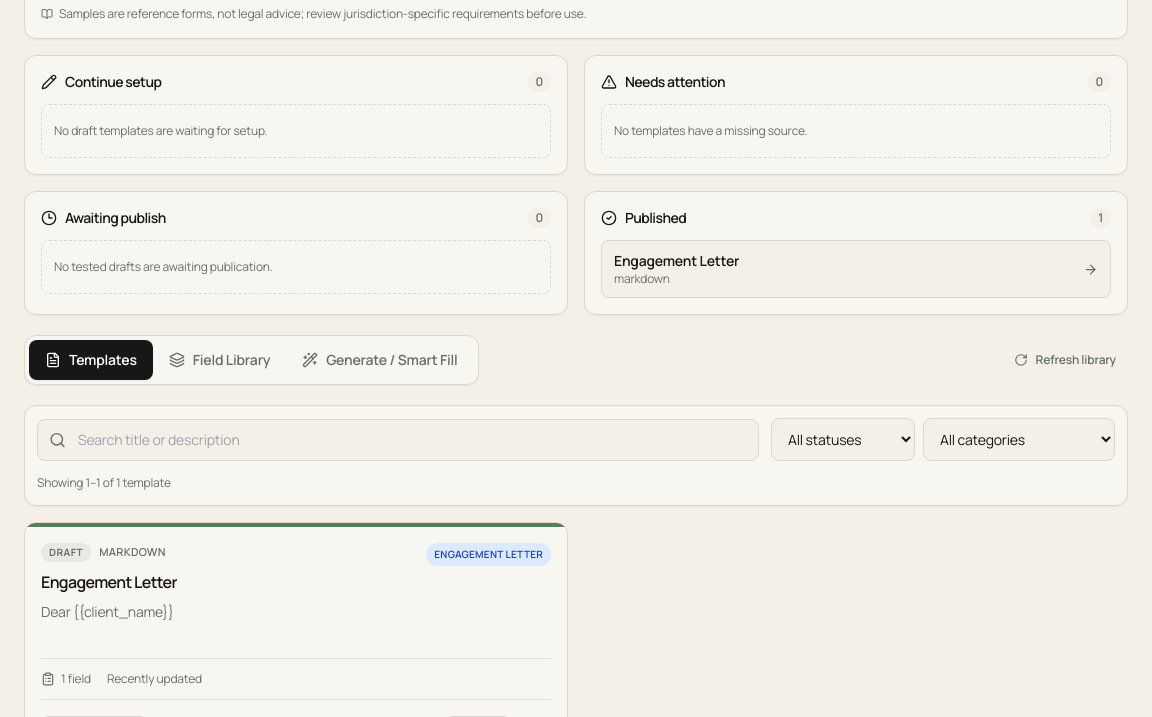
Test case: document template workflow › shows only working document automation tabs
(page scrolled)
Check: the tab "Templates" is shown, box [29,340,153,380]
Click the tab "Field Library" at (219, 360), box [153,340,286,380]
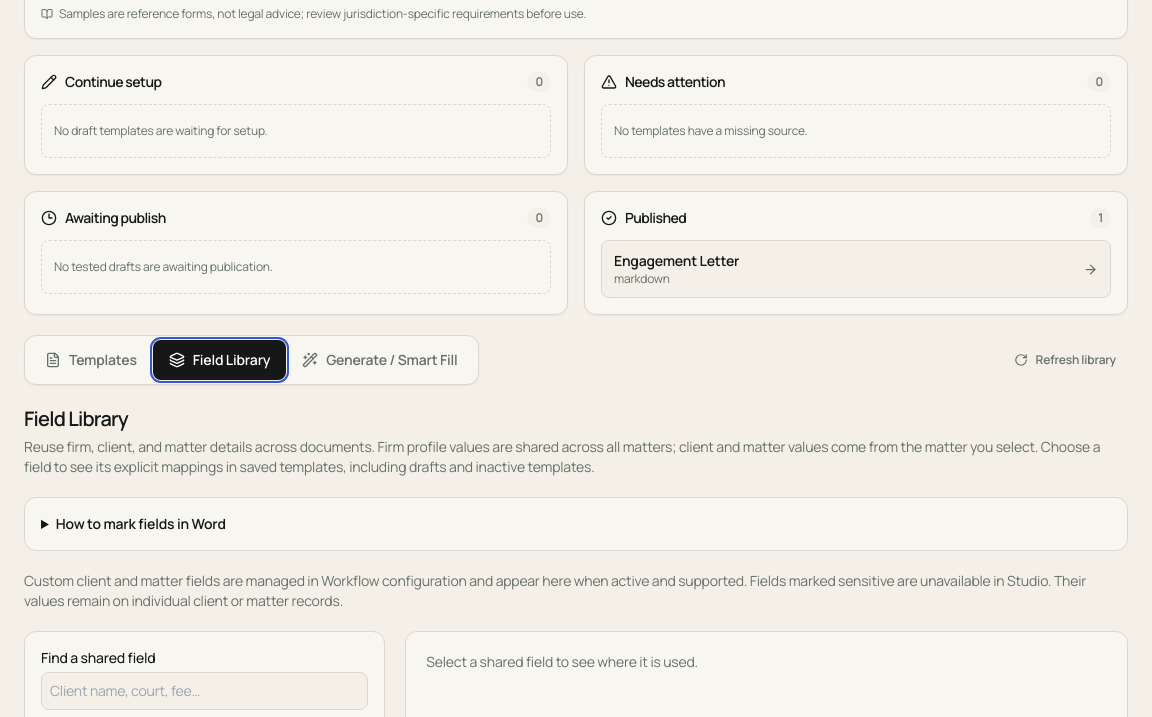
Check: the heading "Field Library" is shown, box [24,405,128,432]
Click the tab "Generate / Smart Fill" at (380, 360), box [286,340,474,380]
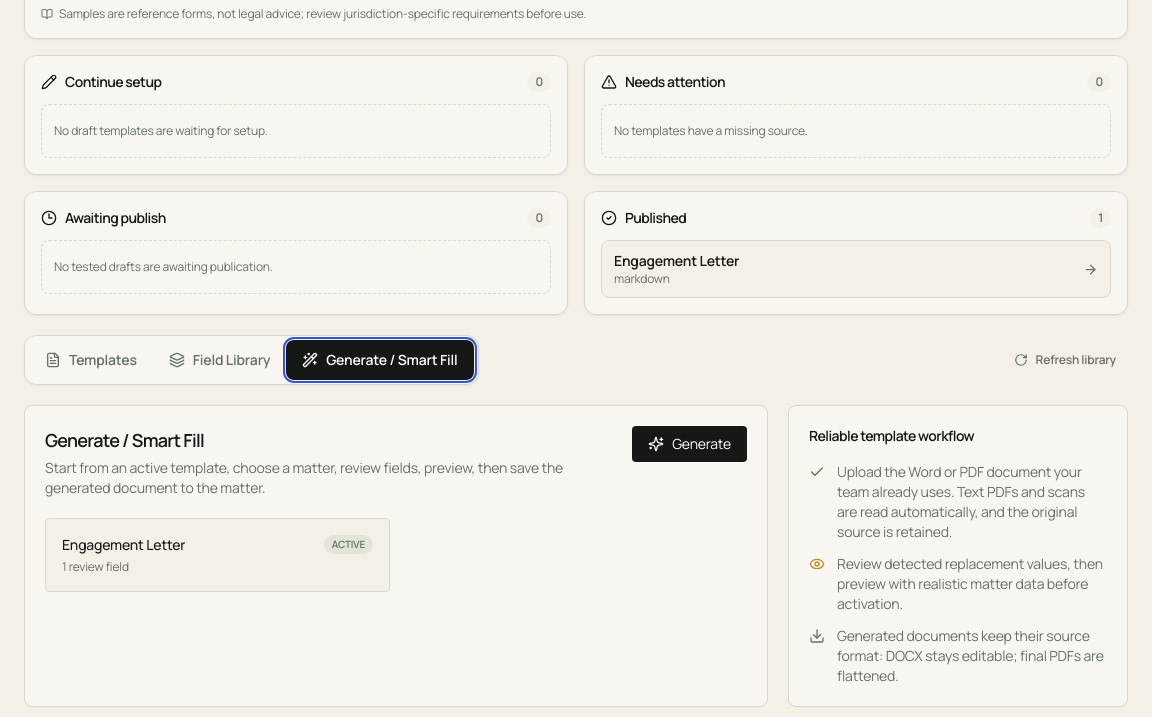
Check: the heading "Reliable template workflow" is shown, box [809,426,974,445]
Check: the text "Word or PDF document your team already uses" is shown, box [837,462,1085,541]
